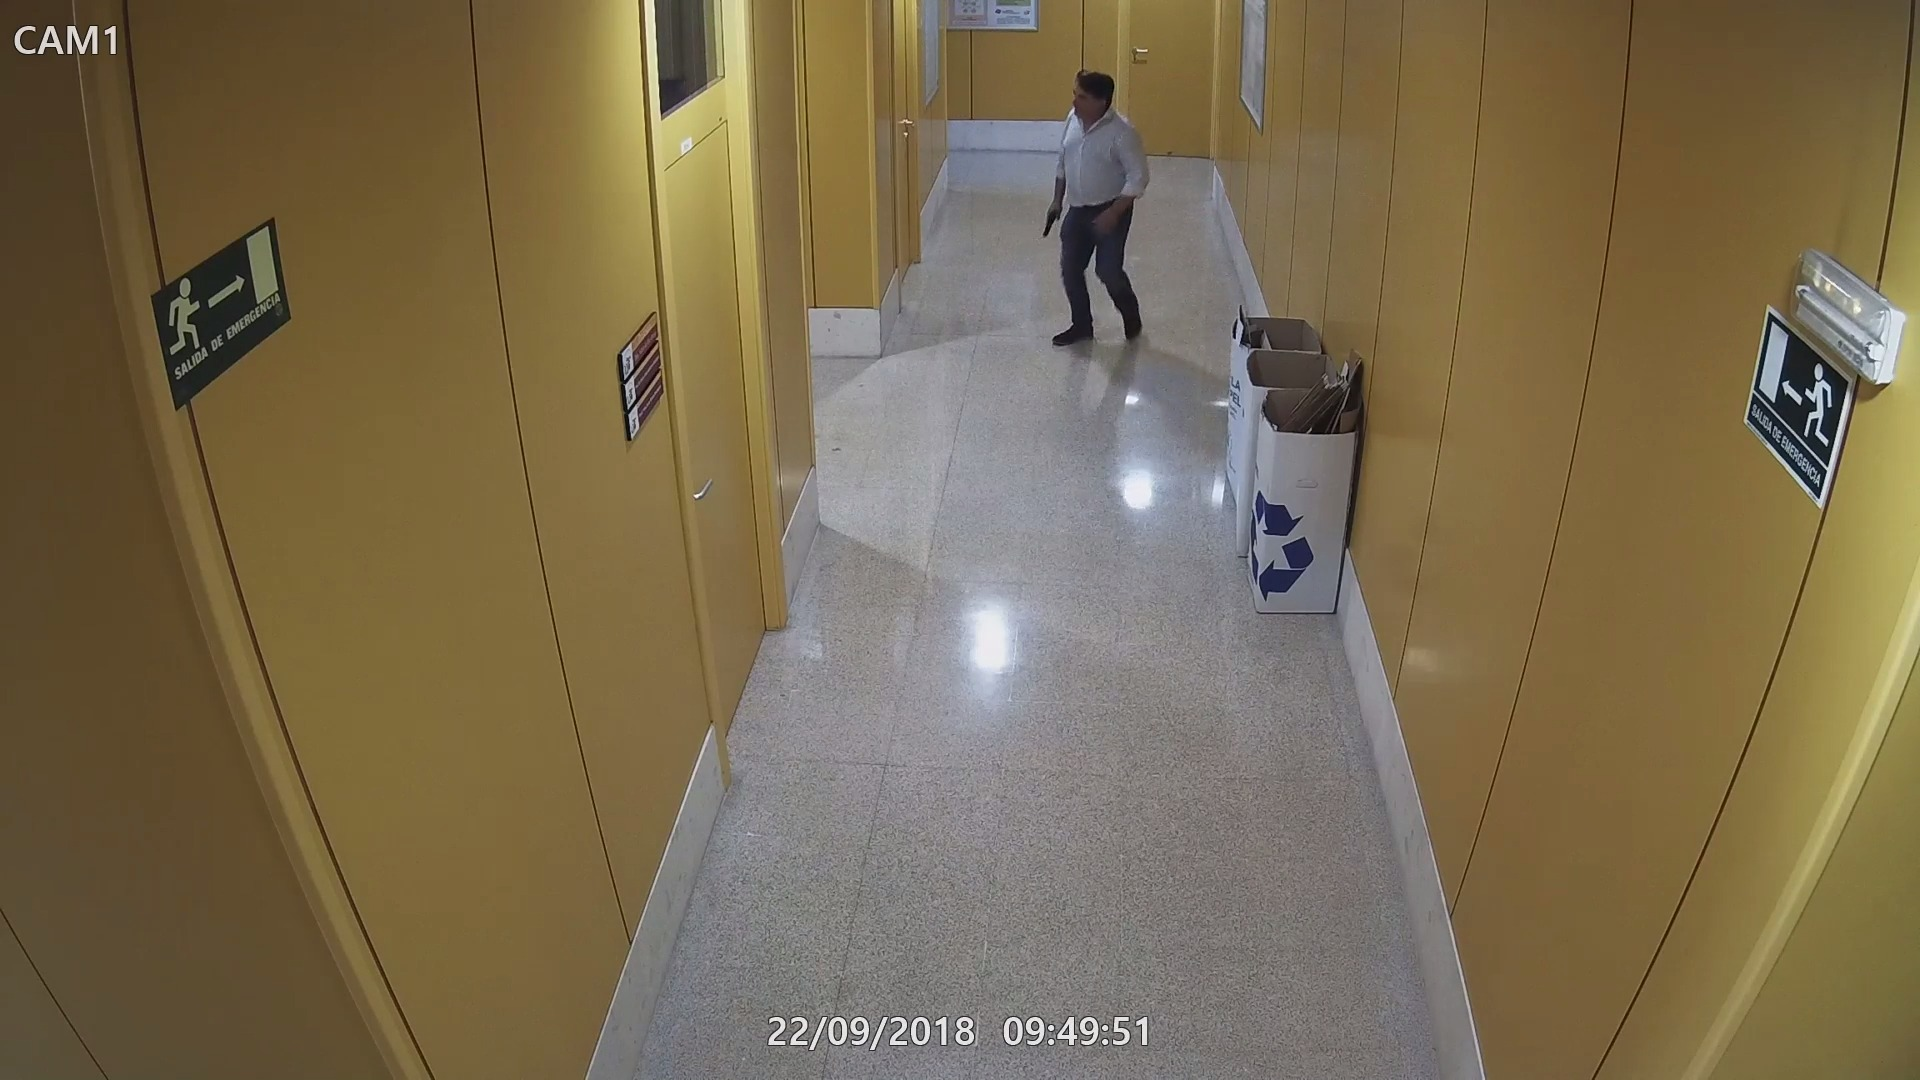Handgun: (1036, 199, 1068, 240)
